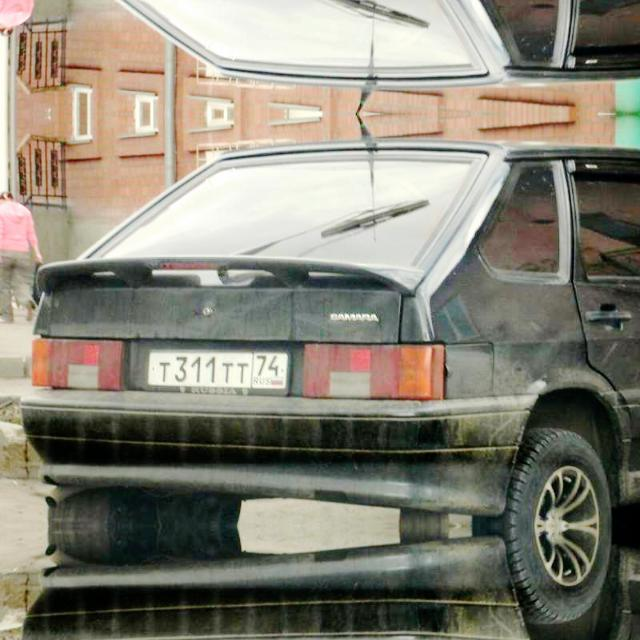citizen: (146, 345, 294, 397)
